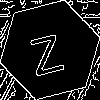Z: (25, 25, 66, 77)
